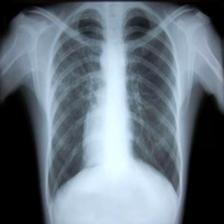tuberculosis: (40, 2, 187, 211)
